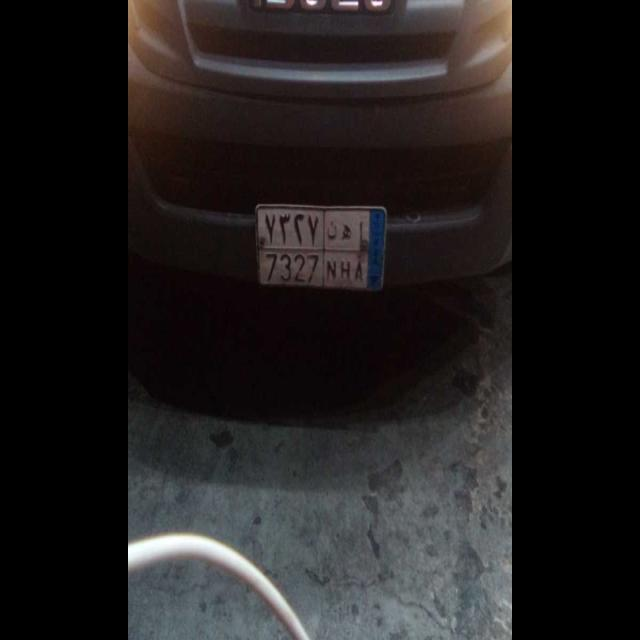license_plate: (255, 248, 368, 294)
